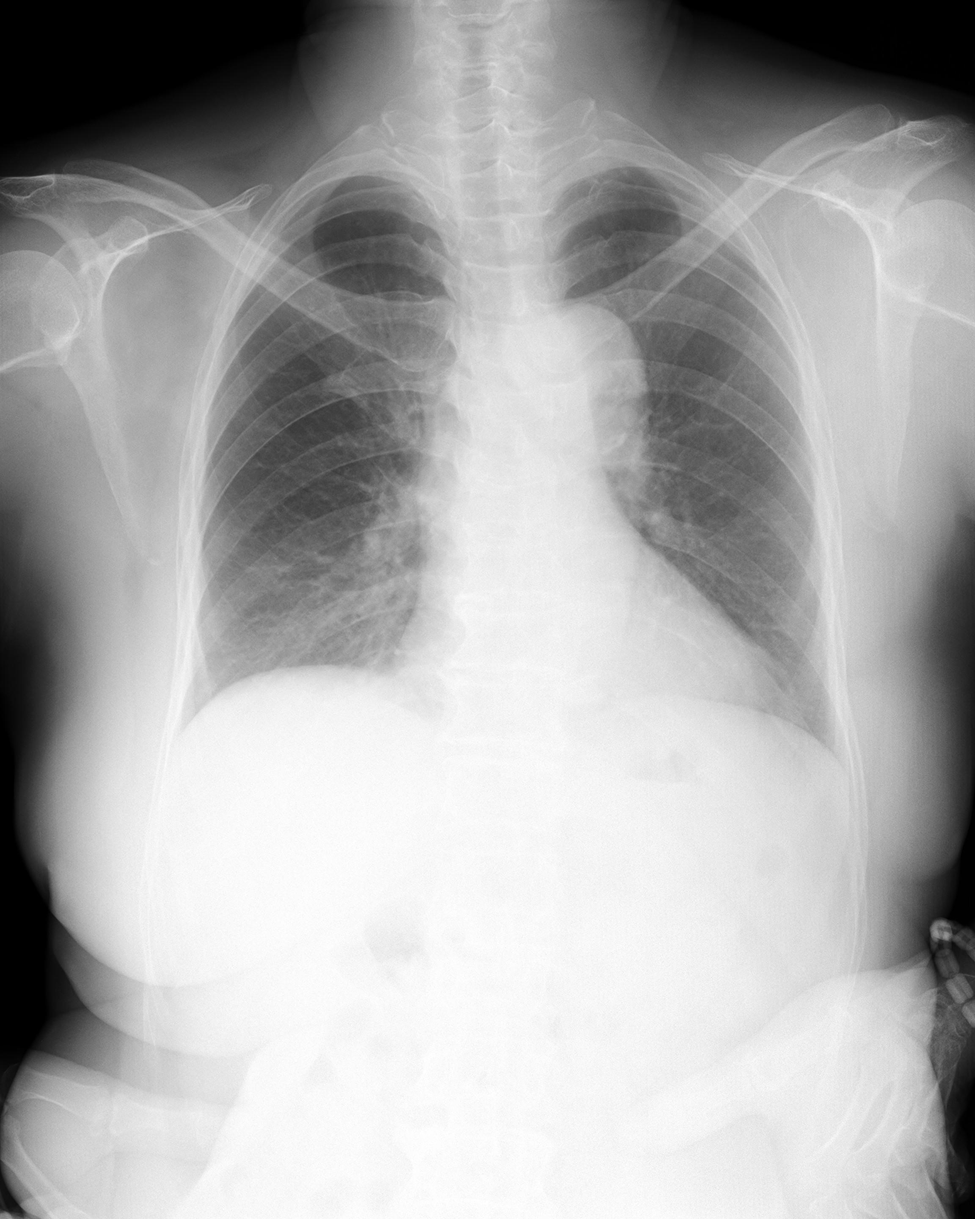Aortic enlargement: (514, 308, 649, 461)
